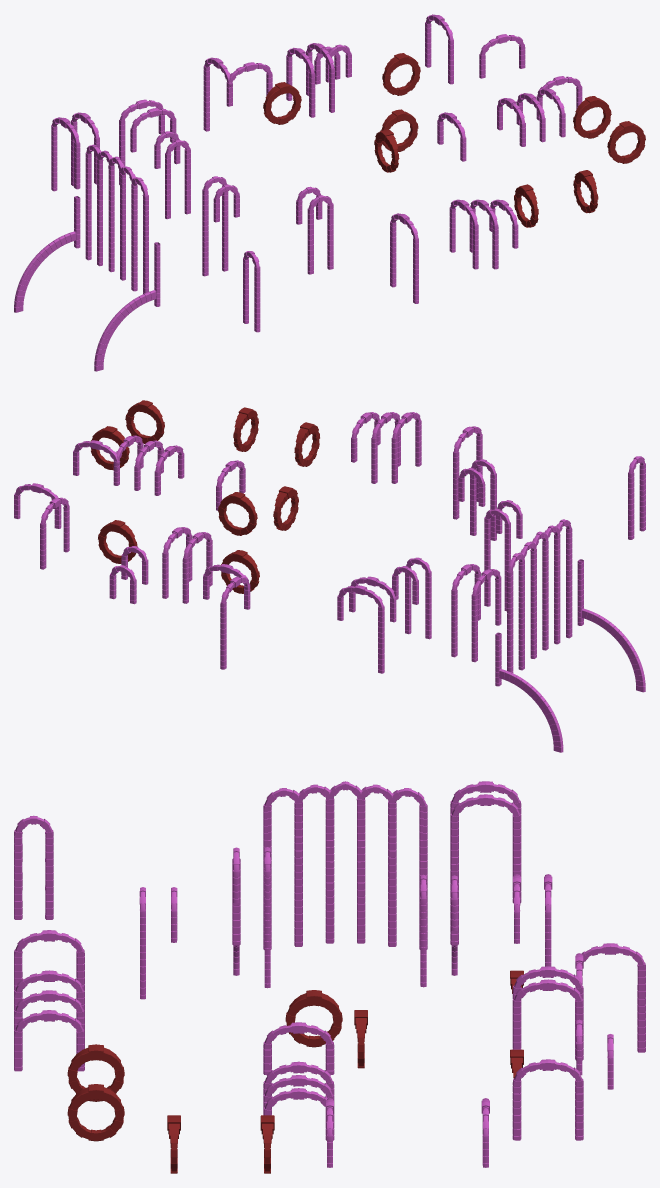
File: RunnelsExport3.fbx
3 views of the same model, one above another, from view 1: azimuth 30°, elevation 25°; view 2: azimuth 150°, elevation 25°; view 3: azimuth 270°, elevation 25° (orthographic). The views are drawn at different scales.
Parts seen in each view (by area): view 1: ArchDecoLower041, ArchDecoLower042, PipeEntrance020, PipeEntrance018, PipeEntrance019, PipeEntrance017, PipeEntrance021, PipeEntrance022, PipeEntrance016, PipeEntrance015, ArchDeco017, ArchDeco009 (+1 smaller); view 2: ArchDecoLower042, ArchDecoLower041, PipeEntrance015, PipeEntrance020, PipeEntrance018, PipeEntrance016, PipeEntrance021, PipeEntrance022, PipeEntrance017, PipeEntrance019, Object357, ArchDeco015 (+3 smaller); view 3: PipeEntrance021, PipeEntrance016, PipeEntrance022, ArchDeco017, Object357, ArchDeco018, ArchDecoLargeLeft011, ArchDecoLargeLeft015, ArchDecoLargeRight017, ArchDecoLargeLeft003, ArchDecoLargeRight011, ArchDecoLargeLeft008 (+8 smaller).
Part boxes in pixels (x1,y1,x2,y2): ArchDecoLower041: (94,290,156,371); ArchDecoLower042: (14,231,76,312); PipeEntrance020: (607,121,645,163); PipeEntrance018: (382,53,420,95); PipeEntrance019: (573,96,611,138); PipeEntrance017: (263,82,301,124); PipeEntrance021: (573,170,598,213); PipeEntrance022: (514,184,538,227); PipeEntrance016: (374,129,399,172); PipeEntrance015: (380,109,418,151); ArchDeco017: (115,157,148,218); ArchDeco009: (213,184,239,222); ArchDecoLower042: (499,669,563,752); ArchDecoLower041: (581,608,645,692); PipeEntrance015: (218,492,257,535); PipeEntrance020: (125,400,164,443); PipeEntrance018: (98,520,137,563); PipeEntrance016: (273,486,298,530); PipeEntrance021: (233,407,258,451); PipeEntrance022: (294,422,319,466); PipeEntrance017: (220,550,259,593); PipeEntrance019: (90,426,129,470); Object357: (507,532,541,595); ArchDeco015: (109,565,136,604); PipeEntrance021: (67,1084,124,1141); PipeEntrance016: (285,990,342,1047); PipeEntrance022: (67,1044,124,1101); ArchDeco017: (263,781,345,837); Object357: (345,781,427,837); ArchDeco018: (14,815,53,863); ArchDecoLargeLeft011: (512,1059,548,1112); ArchDecoLargeLeft015: (512,979,548,1032); ArchDecoLargeRight017: (486,794,521,847); ArchDecoLargeLeft003: (298,1022,334,1074); ArchDecoLargeRight011: (548,1059,583,1112); ArchDecoLargeLeft008: (610,943,645,995).
Size of the model in its own units: 4189 by 1286 by 3192.
